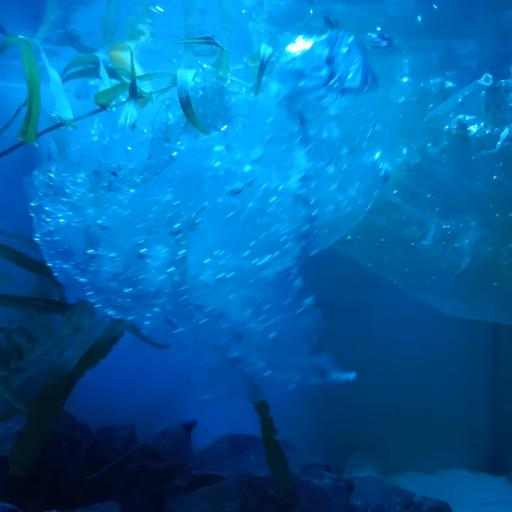plastic_bag: (29, 16, 381, 391), (341, 48, 512, 321)
